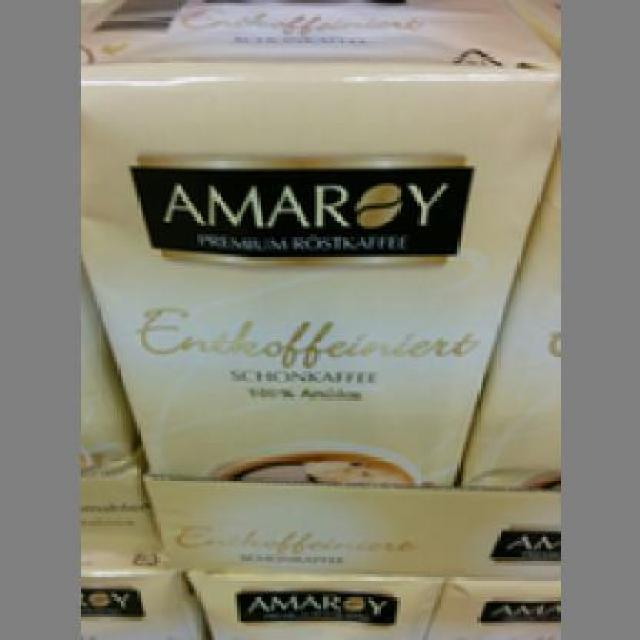Coffee: (79, 0, 555, 483)
